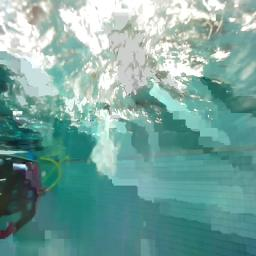Side: (0, 152, 40, 237)
